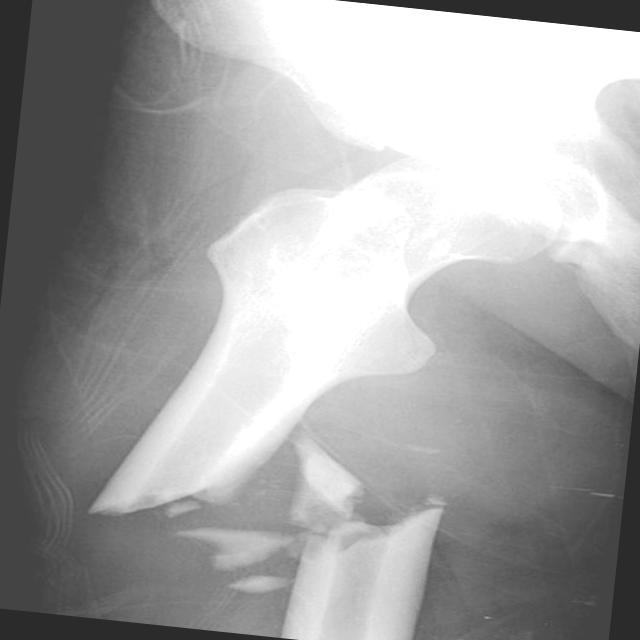Comminuted Fracture: (135, 408, 447, 566)
